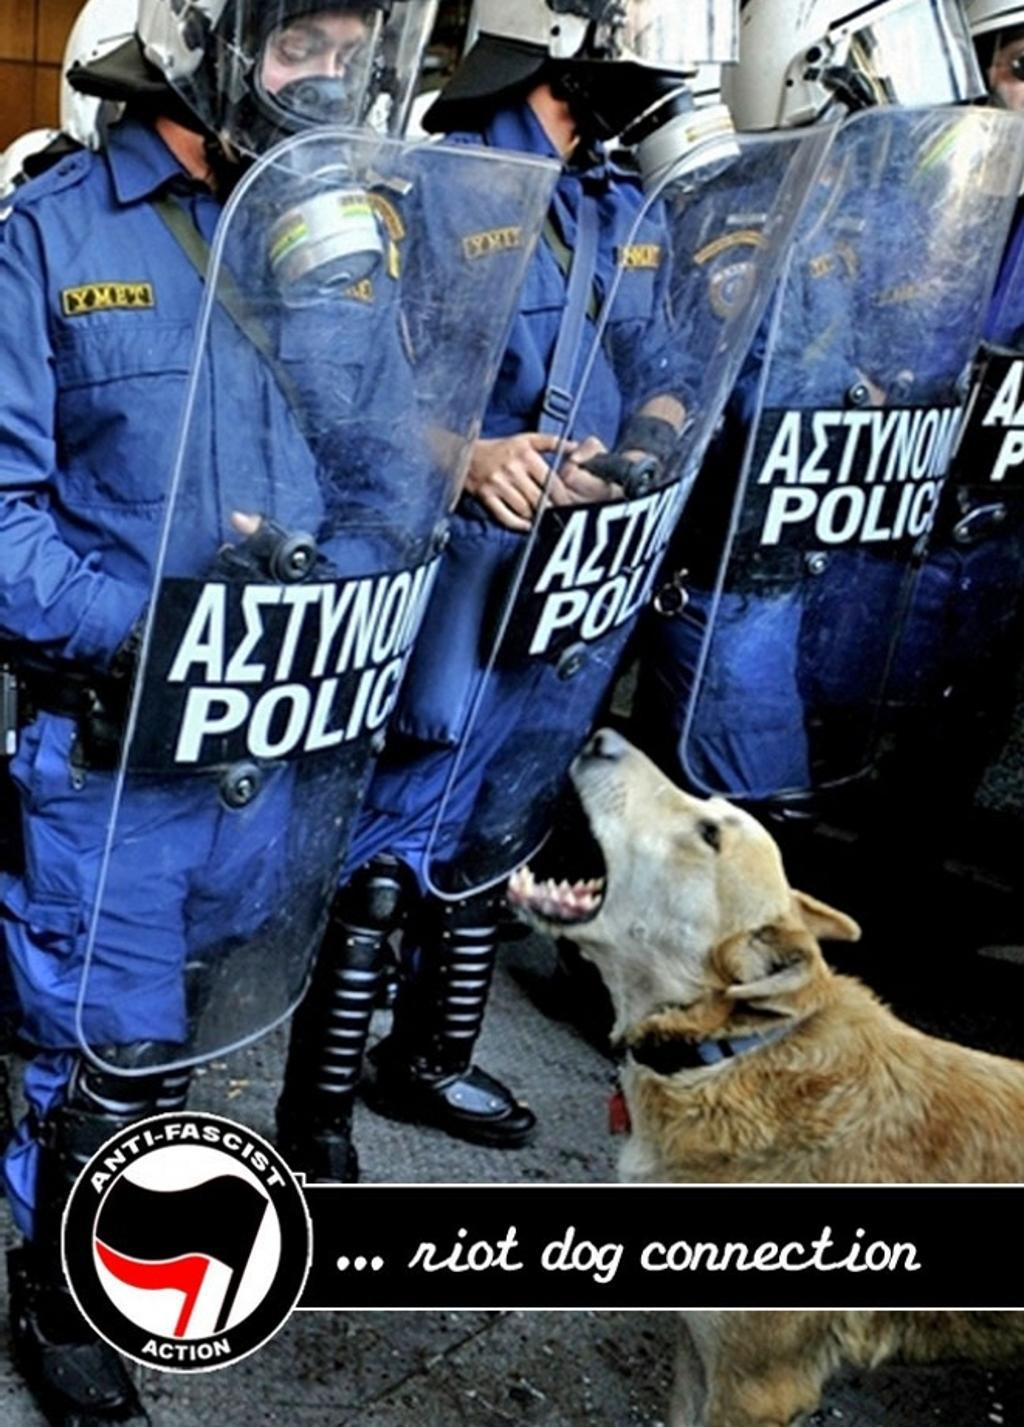face: (244, 15, 364, 171)
